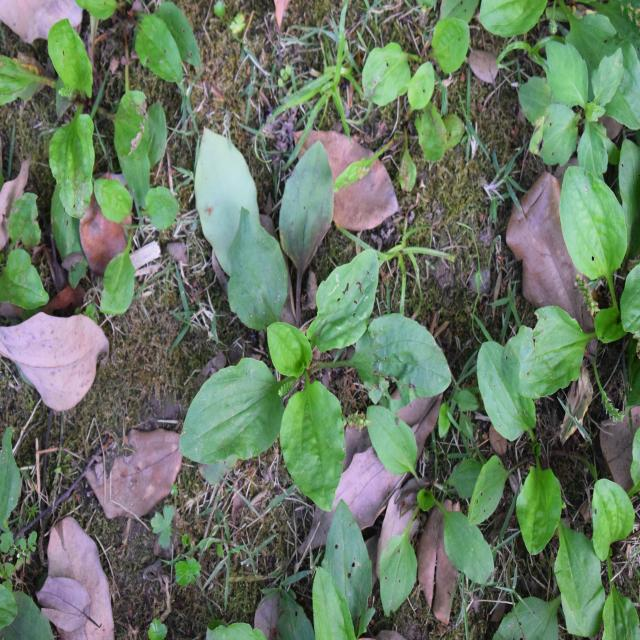plantain: (198, 190, 442, 503), (366, 414, 505, 599)
